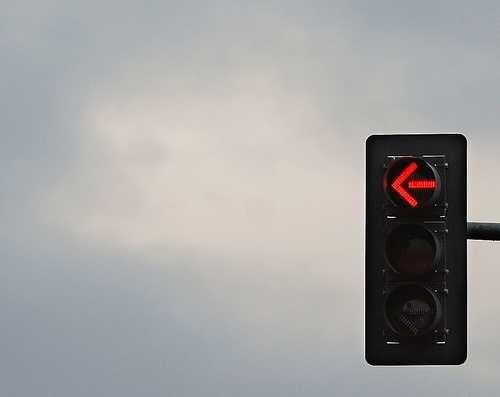red: (366, 132, 469, 365), (368, 138, 465, 215)
